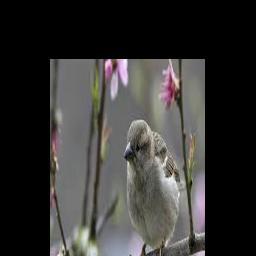Sparrow: (123, 119, 186, 256)
